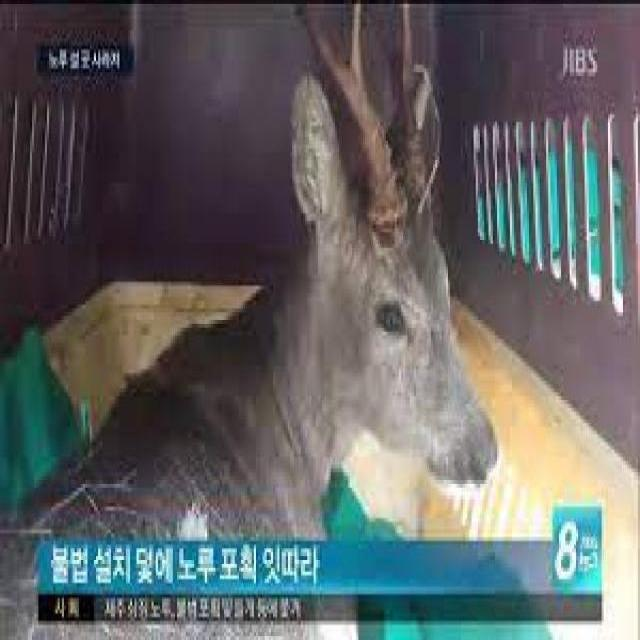deer: (139, 0, 506, 541)
